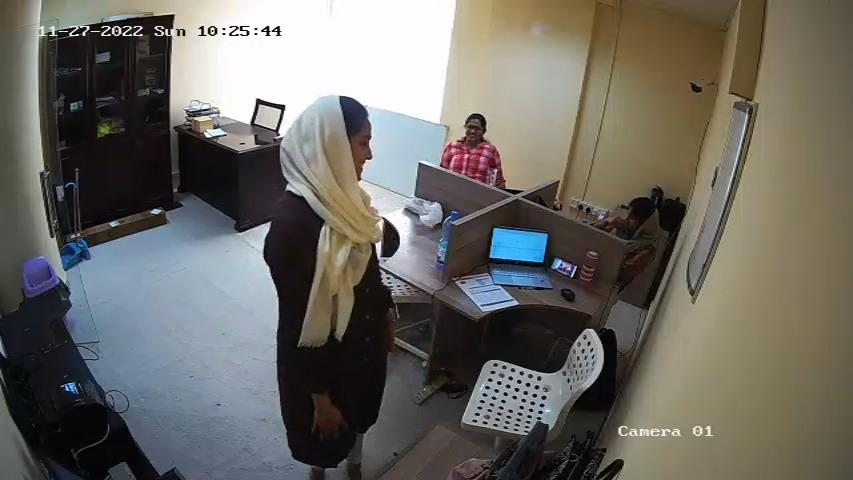no_apron: (284, 205, 379, 371)
